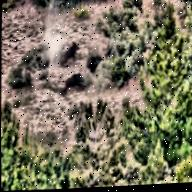boar: (59, 63, 82, 99)
